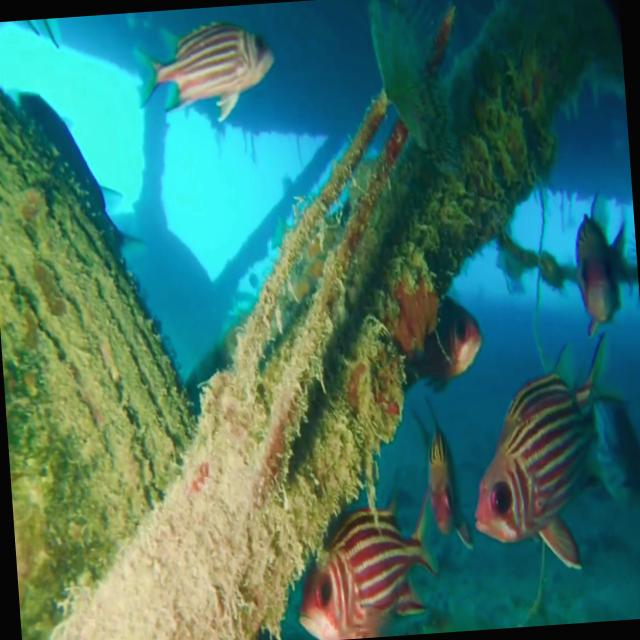Asker Baligi: (460, 327, 640, 581), (130, 14, 279, 130)
